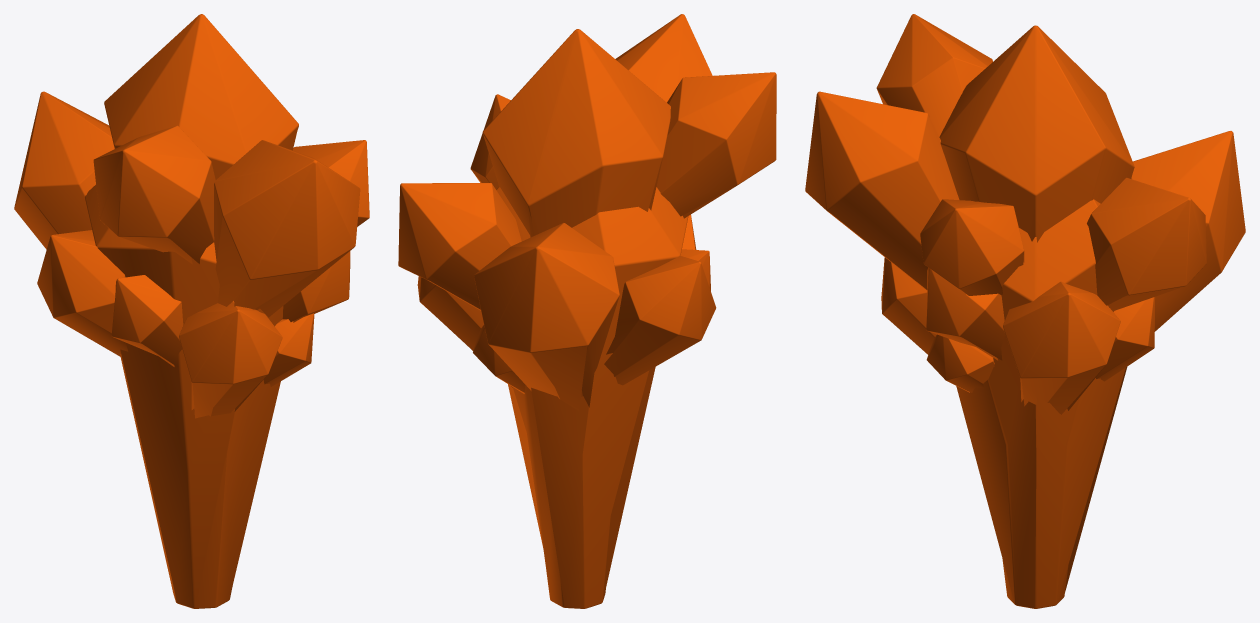
Rendered from gem_1.fbx.
The picture shows the model from 3 angles, left to right: view 1: azimuth 30°, elevation 25°; view 2: azimuth 150°, elevation 25°; view 3: azimuth 270°, elevation 25°; orthographic projection. The views are drawn at different scales.
Parts seen in each view (by area): view 1: Cylinder.013, Cylinder.007, Cylinder, Cylinder.005, Cylinder.001, Cylinder.012, Cylinder.002, Cylinder.010, Cylinder.006, Cylinder.009, Cylinder.011; view 2: Cylinder.013, Cylinder, Cylinder.001, Cylinder.005, Cylinder.004, Cylinder.002, Cylinder.007, Cylinder.003, Cylinder.008, Cylinder.006; view 3: Cylinder.013, Cylinder, Cylinder.007, Cylinder.004, Cylinder.003, Cylinder.001, Cylinder.006, Cylinder.005, Cylinder.009, Cylinder.012, Cylinder.008, Cylinder.011.
Part boxes in pixels (<box>): Cylinder.013: <box>85,185,283,608</box>; Cylinder.007: <box>214,140,360,317</box>; Cylinder: <box>104,14,298,179</box>; Cylinder.005: <box>93,125,215,264</box>; Cylinder.001: <box>14,91,114,249</box>; Cylinder.012: <box>179,301,282,418</box>; Cylinder.002: <box>37,230,128,356</box>; Cylinder.010: <box>111,275,183,367</box>; Cylinder.006: <box>293,140,369,226</box>; Cylinder.009: <box>282,251,350,322</box>; Cylinder.011: <box>263,313,314,386</box>; Cylinder.013: <box>496,186,688,608</box>; Cylinder: <box>482,29,670,237</box>; Cylinder.001: <box>474,223,619,410</box>; Cylinder.005: <box>656,72,776,218</box>; Cylinder.004: <box>398,183,521,310</box>; Cylinder.002: <box>604,255,716,385</box>; Cylinder.007: <box>615,14,712,102</box>; Cylinder.003: <box>417,276,512,387</box>; Cylinder.008: <box>473,325,525,393</box>; Cylinder.006: <box>470,94,510,189</box>; Cylinder.013: <box>956,199,1127,608</box>; Cylinder: <box>939,25,1134,242</box>; Cylinder.007: <box>805,91,959,290</box>; Cylinder.004: <box>1087,177,1206,311</box>; Cylinder.003: <box>1003,281,1120,414</box>; Cylinder.001: <box>1131,131,1245,331</box>; Cylinder.006: <box>920,199,1024,295</box>; Cylinder.005: <box>876,14,992,136</box>; Cylinder.009: <box>926,267,1005,360</box>; Cylinder.012: <box>881,257,936,354</box>; Cylinder.008: <box>1096,297,1155,381</box>; Cylinder.011: <box>926,334,994,392</box>.
Bounding box in the file's own units: 522 × 998 × 698.
